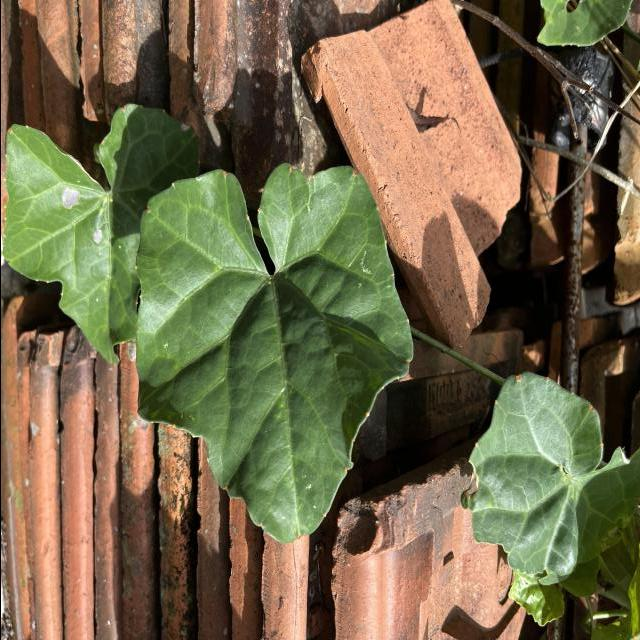Coccinia grandis: (133, 161, 415, 547)
